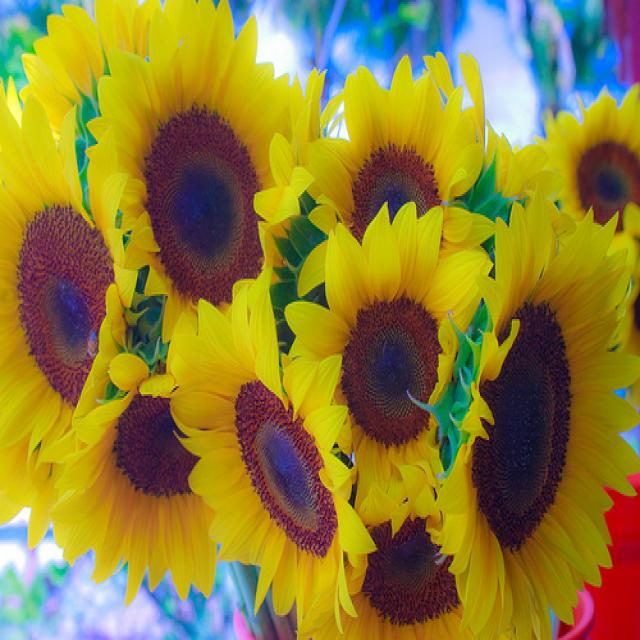sunflower: (469, 199, 640, 640), (94, 15, 306, 319), (290, 220, 482, 507), (0, 83, 121, 527), (308, 47, 502, 255), (79, 373, 232, 615)
